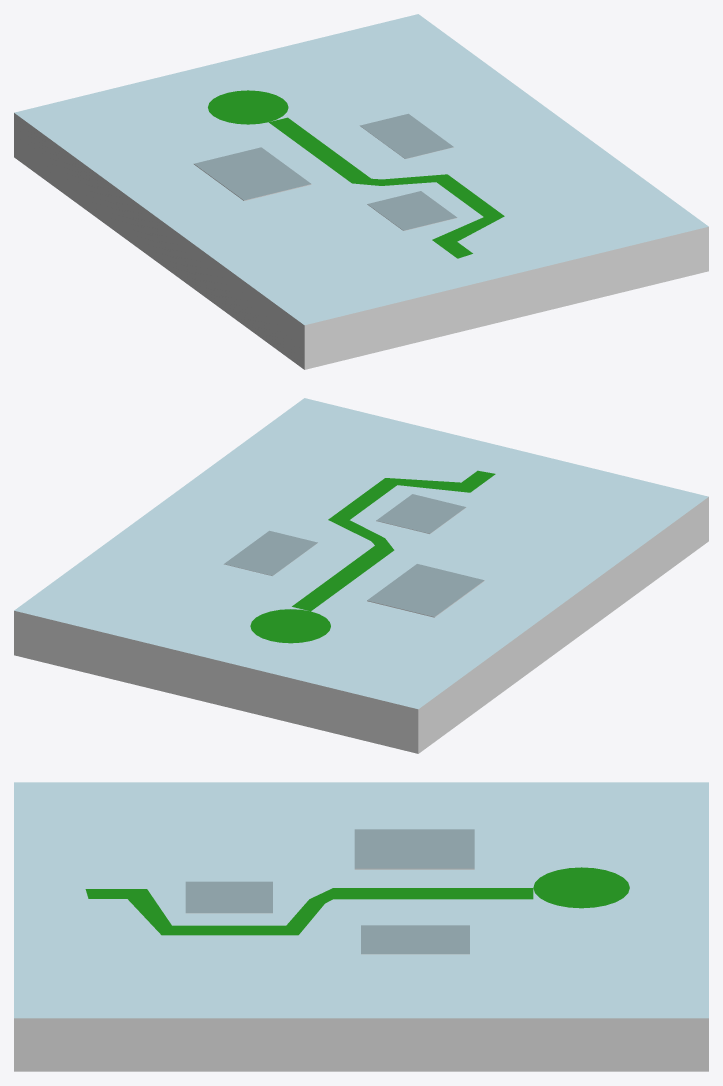
Rendered from green.dae.
3 renders of one model, top to bottom at view 1: azimuth 30°, elevation 25°; view 2: azimuth 150°, elevation 25°; view 3: azimuth 270°, elevation 25°, orthographic. The views are drawn at different scales.
Visible parts, largest first — view 1: SketchUp (×7); view 2: SketchUp (×7); view 3: SketchUp (×7).
Boxes of the visible parts, x1,y1,x2,y2 form: SketchUp (×7): [14, 14, 708, 369]; SketchUp (×7): [14, 398, 708, 753]; SketchUp (×7): [14, 782, 708, 1071].
Bounding box in the file's own units: 204 × 254 × 21.88.
